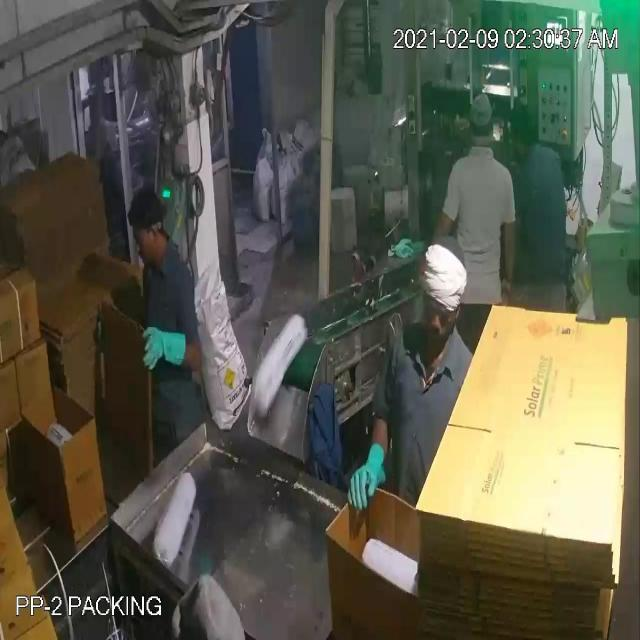Gloves: (24, 65, 509, 480)
